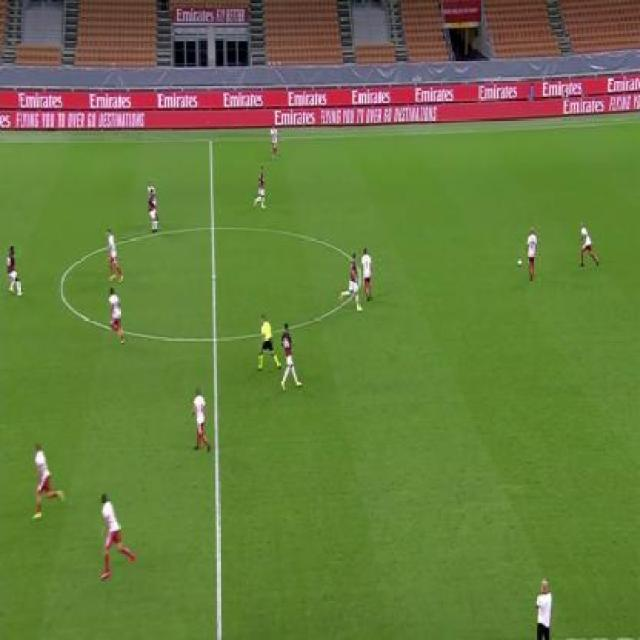ball: (516, 255, 524, 268)
player: (98, 492, 137, 580), (31, 443, 65, 523), (280, 321, 302, 390), (191, 386, 213, 452), (339, 250, 362, 313), (256, 313, 279, 372), (107, 286, 127, 346), (535, 576, 554, 639), (106, 226, 126, 283), (577, 221, 600, 269), (6, 243, 25, 299), (360, 246, 374, 303), (146, 180, 160, 234), (525, 225, 538, 282), (253, 165, 267, 211), (270, 119, 279, 159)
